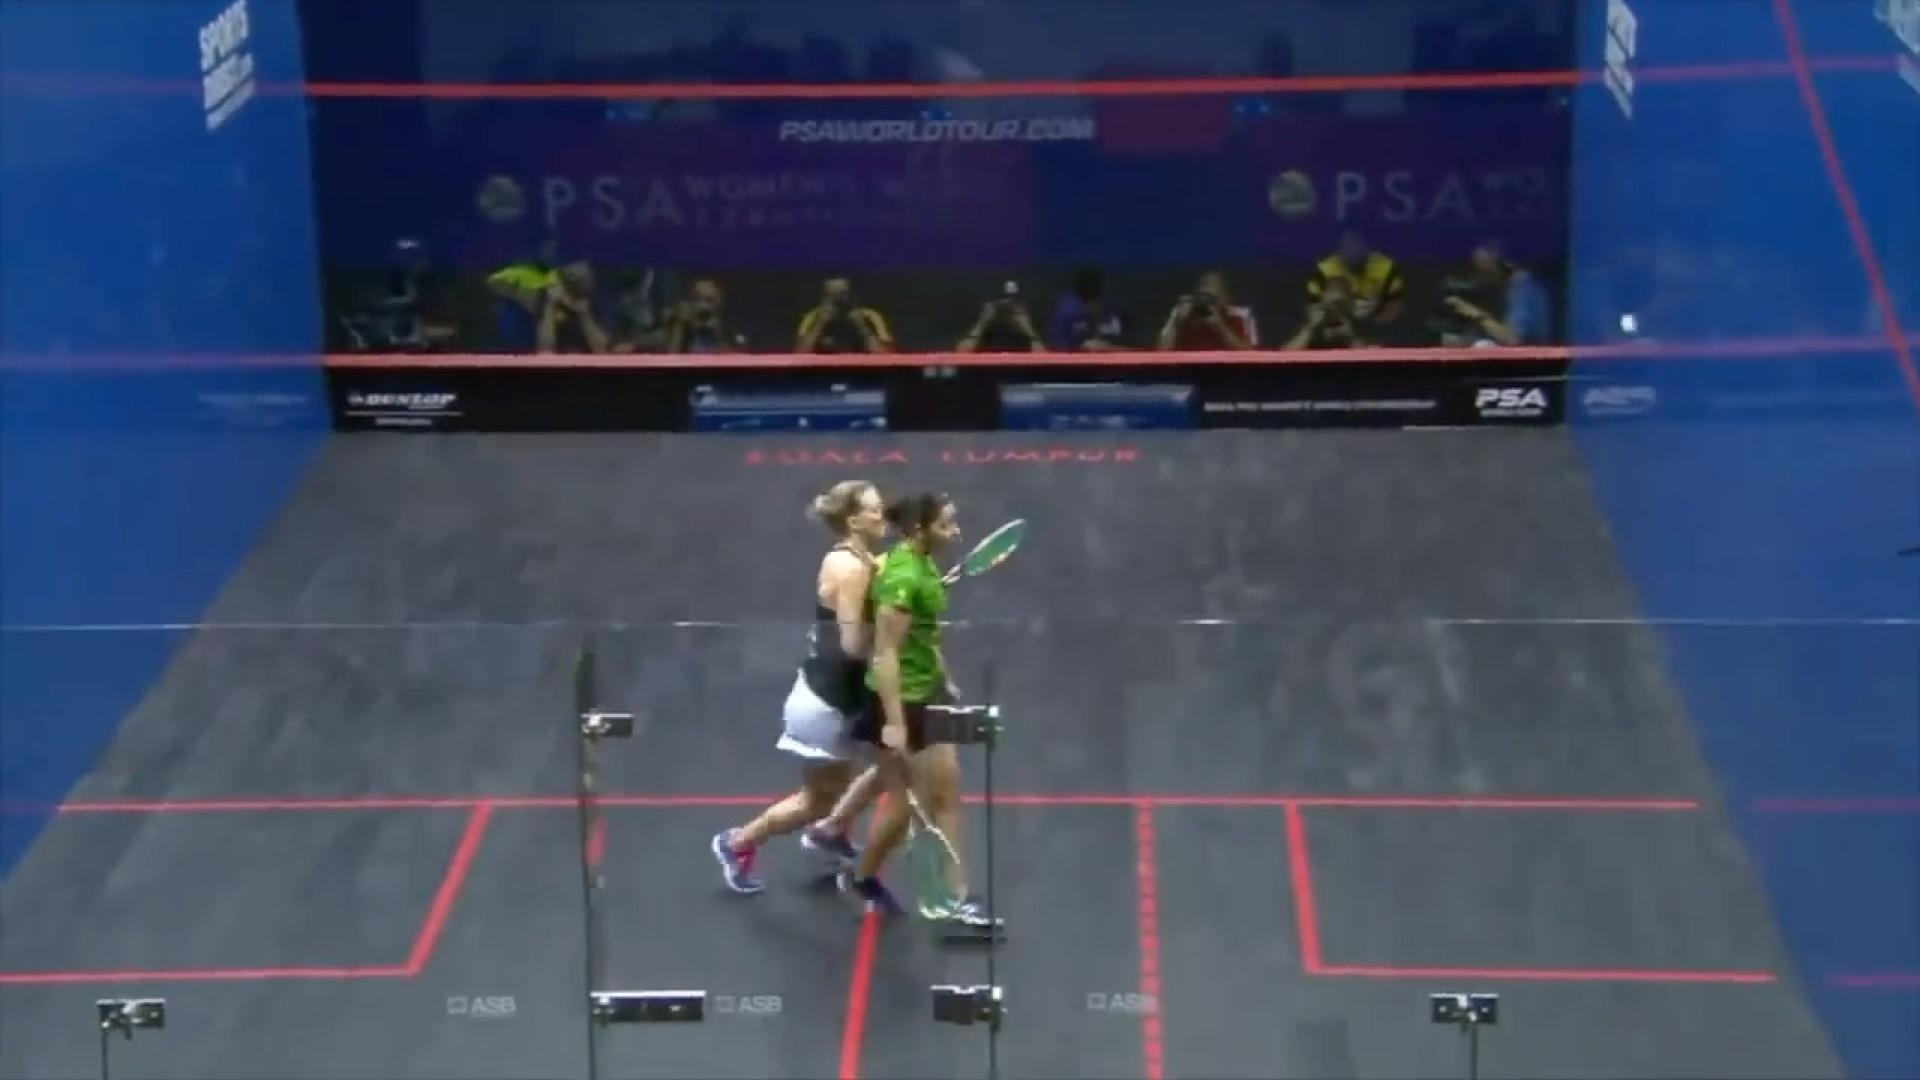Squash-Ball: (1607, 305, 1647, 345)
